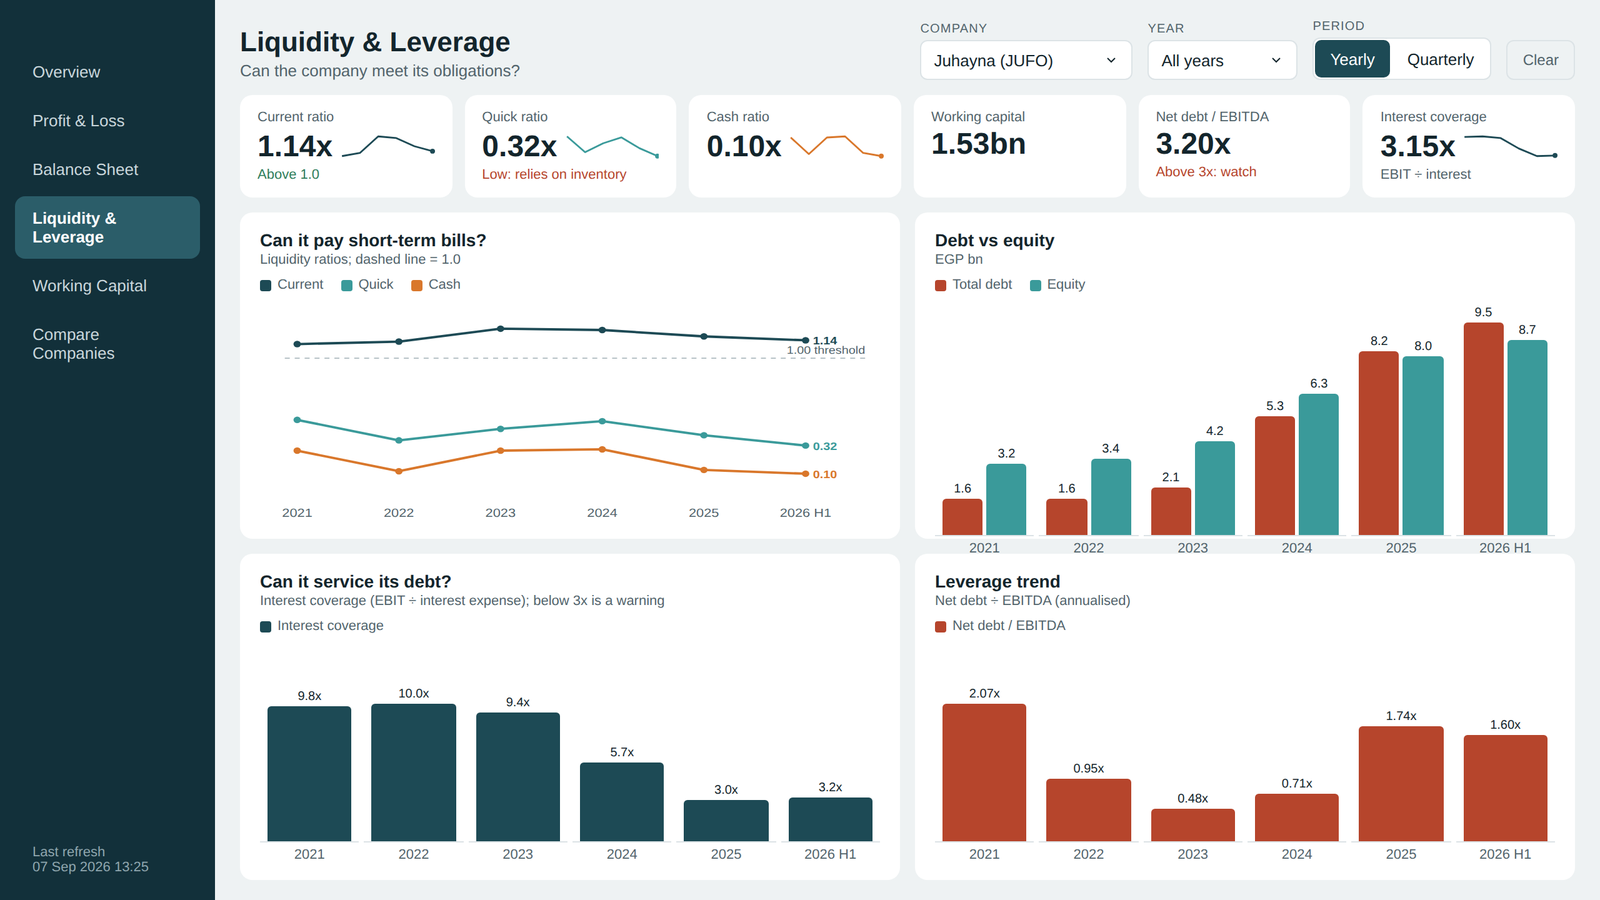

This screenshot's page, from the dashboard's own definition file:
{"tool":"powerbi","page":{"name":"Liquidity & Leverage","canvas":[1280,720],"ordinal":3},"visuals":[{"type":"card","title":"Current ratio","fields":{"Values":["Measures List.Cuurent Ratio (card)"]},"box":[192,78,170,80],"z":10},{"type":"card","title":"Quick ratio","fields":{"Values":["Measures List.Quick Ratio (card)"]},"box":[372,78,170,80],"z":11},{"type":"card","title":"Cash ratio","fields":{"Values":["Measures List.Cash Ratio (card)"]},"box":[551,78,170,80],"z":12},{"type":"card","title":"Working capital","fields":{"Values":["Measures List.Working Capital (card)"]},"box":[731,78,170,80],"z":13},{"type":"card","title":"Net debt / EBITDA","fields":{"Values":["Measures List.Net Debt / EBITDA (card)"]},"box":[911,78,170,80],"z":14},{"type":"card","title":"Interest coverage","fields":{"Values":["Measures List.Interest Coverage (card)"]},"box":[1090,78,170,80],"z":15},{"type":"lineChart","title":"Can it pay short-term bills?","fields":{"Y":["Measures List.Cuurent Ratio (chart)","Measures List.Quick Ratio (chart)","Measures List.Cash Ratio (chart)"],"Category":["DimDate.Year"]},"box":[192,170,528,267],"z":20},{"type":"clusteredColumnChart","title":"Debt vs equity","fields":{"Category":["DimDate.Year"],"Y":["Measures List.Total Debt (chart)","Measures List.Total Equity (chart)"]},"box":[732,170,528,267],"z":21},{"type":"clusteredColumnChart","title":"Can it service its debt?","fields":{"Category":["DimDate.Year"],"Y":["Measures List.Interest Coverage (chart)"]},"box":[192,449,528,255],"z":22},{"type":"clusteredColumnChart","title":"Leverage trend","fields":{"Category":["DimDate.Year"],"Y":["Measures List.Net Debt / EBITDA (chart)"]},"box":[732,449,528,255],"z":23},{"type":"pageNavigator","box":[12,38,150,270],"z":50},{"type":"card","title":"Last refresh","fields":{"Values":["Max(Last Refreash.Date)"]},"box":[12,656,150,52],"z":51},{"type":"textbox","box":[188,0,540,46],"z":52},{"type":"textbox","box":[188,44,540,30],"z":53},{"type":"slicer","title":"COMPANY","fields":{"Values":["FactFinancials.Company"]},"box":[736,10,170,56],"z":54},{"type":"slicer","title":"YEAR","fields":{"Values":["DimDate.Year"]},"box":[918,10,120,56],"z":55},{"type":"actionButton","box":[1205,34,55,30],"z":56}]}

Visuals, with their boxes on the page's 1280x720 design canvas (x1, y1, x2, y2). These are canvas units, not pixel positions in the 1600x900 screenshot, which may show the page scaled, cropped or inside an application window:
"Current ratio" card: [192,78,362,158]
"Quick ratio" card: [372,78,542,158]
"Cash ratio" card: [551,78,721,158]
"Working capital" card: [731,78,901,158]
"Net debt / EBITDA" card: [911,78,1081,158]
"Interest coverage" card: [1090,78,1260,158]
"Can it pay short-term bills?" lineChart: [192,170,720,437]
"Debt vs equity" clusteredColumnChart: [732,170,1260,437]
"Can it service its debt?" clusteredColumnChart: [192,449,720,704]
"Leverage trend" clusteredColumnChart: [732,449,1260,704]
pageNavigator: [12,38,162,308]
"Last refresh" card: [12,656,162,708]
textbox: [188,0,728,46]
textbox: [188,44,728,74]
"COMPANY" slicer: [736,10,906,66]
"YEAR" slicer: [918,10,1038,66]
actionButton: [1205,34,1260,64]
